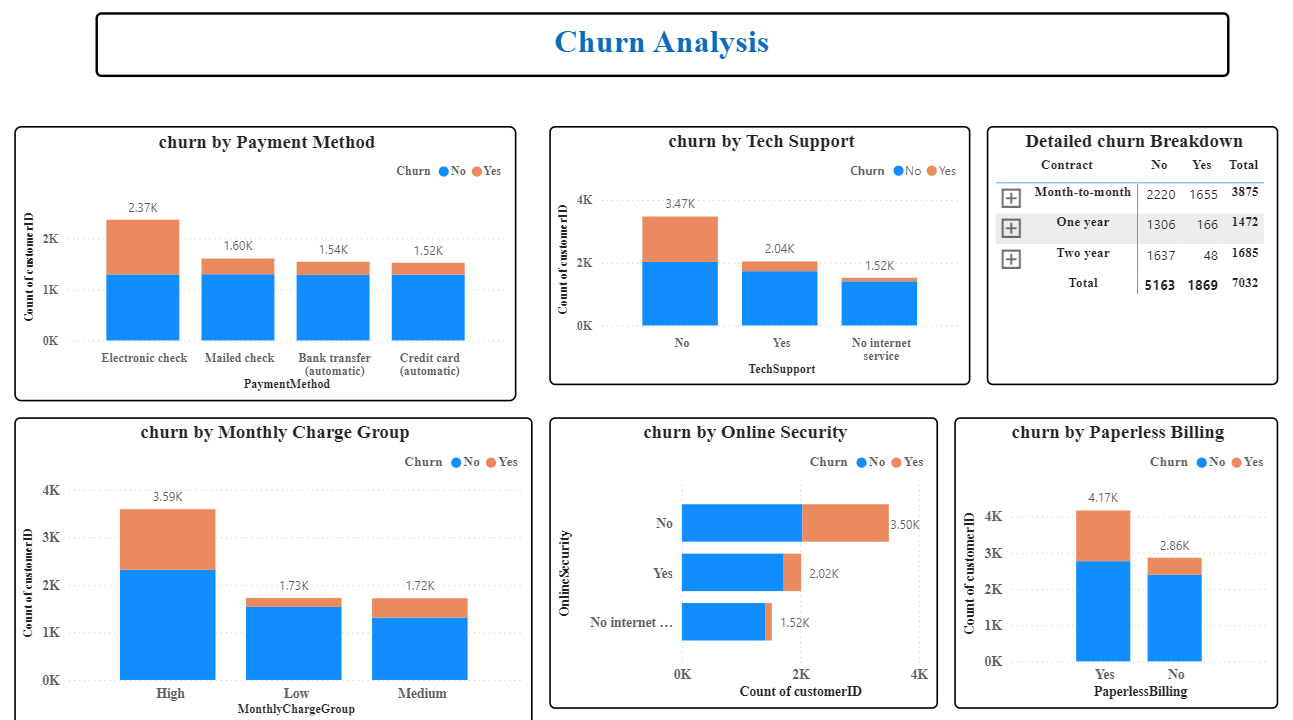

This screenshot's page, from the dashboard's own definition file:
{"tool":"powerbi","page":{"name":"churn drive ","canvas":[1280,720],"ordinal":1},"visuals":[{"type":"columnChart","title":"churn by Payment Method","fields":{"Category":["Telco-Customer-Churn 1 cleaned data(in).PaymentMethod"],"Y":["CountNonNull(Telco-Customer-Churn 1 cleaned data(in).customerID)"],"Series":["Telco-Customer-Churn 1 cleaned data(in).Churn"]},"box":[16,128,496,272],"z":0},{"type":"columnChart","title":"churn by Monthly Charge Group","fields":{"Category":["Telco-Customer-Churn 1 cleaned data(in).MonthlyChargeGroup"],"Y":["CountNonNull(Telco-Customer-Churn 1 cleaned data(in).customerID)"],"Series":["Telco-Customer-Churn 1 cleaned data(in).Churn"]},"box":[16,416,512,304],"z":1000},{"type":"columnChart","title":"churn by Tech Support","fields":{"Category":["Telco-Customer-Churn 1 cleaned data(in).TechSupport"],"Y":["CountNonNull(Telco-Customer-Churn 1 cleaned data(in).customerID)"],"Series":["Telco-Customer-Churn 1 cleaned data(in).Churn"]},"box":[544,128,416,256],"z":2000},{"type":"barChart","title":"churn by Online Security ","fields":{"Category":["Telco-Customer-Churn 1 cleaned data(in).OnlineSecurity"],"Series":["Telco-Customer-Churn 1 cleaned data(in).Churn"],"Y":["CountNonNull(Telco-Customer-Churn 1 cleaned data(in).customerID)"]},"box":[544,416,384,288],"z":3000},{"type":"columnChart","title":"churn by Paperless Billing","fields":{"Category":["Telco-Customer-Churn 1 cleaned data(in).PaperlessBilling"],"Y":["CountNonNull(Telco-Customer-Churn 1 cleaned data(in).customerID)"],"Series":["Telco-Customer-Churn 1 cleaned data(in).Churn"]},"box":[944,416,320,288],"z":4000},{"type":"pivotTable","title":"Detailed churn Breakdown","fields":{"Rows":["Telco-Customer-Churn 1 cleaned data(in).Contract","Telco-Customer-Churn 1 cleaned data(in).InternetService"],"Values":["Telco-Customer-Churn 1 cleaned data(in).Total Customers"],"Columns":["Telco-Customer-Churn 1 cleaned data(in).Churn"]},"box":[976,128,288,256],"z":5000},{"type":"textbox","box":[96,16,1120,64],"z":6000}]}

Visuals, with their boxes in screenshot pixels (x1, y1, x2, y2), scaled from the page's 1280x720 canvas onto the 1293x720 screenshot:
"churn by Payment Method" columnChart: 16, 128, 517, 400
"churn by Monthly Charge Group" columnChart: 16, 416, 533, 719
"churn by Tech Support" columnChart: 550, 128, 970, 384
"churn by Online Security " barChart: 550, 416, 937, 704
"churn by Paperless Billing" columnChart: 954, 416, 1277, 704
"Detailed churn Breakdown" pivotTable: 986, 128, 1277, 384
textbox: 97, 16, 1228, 80
